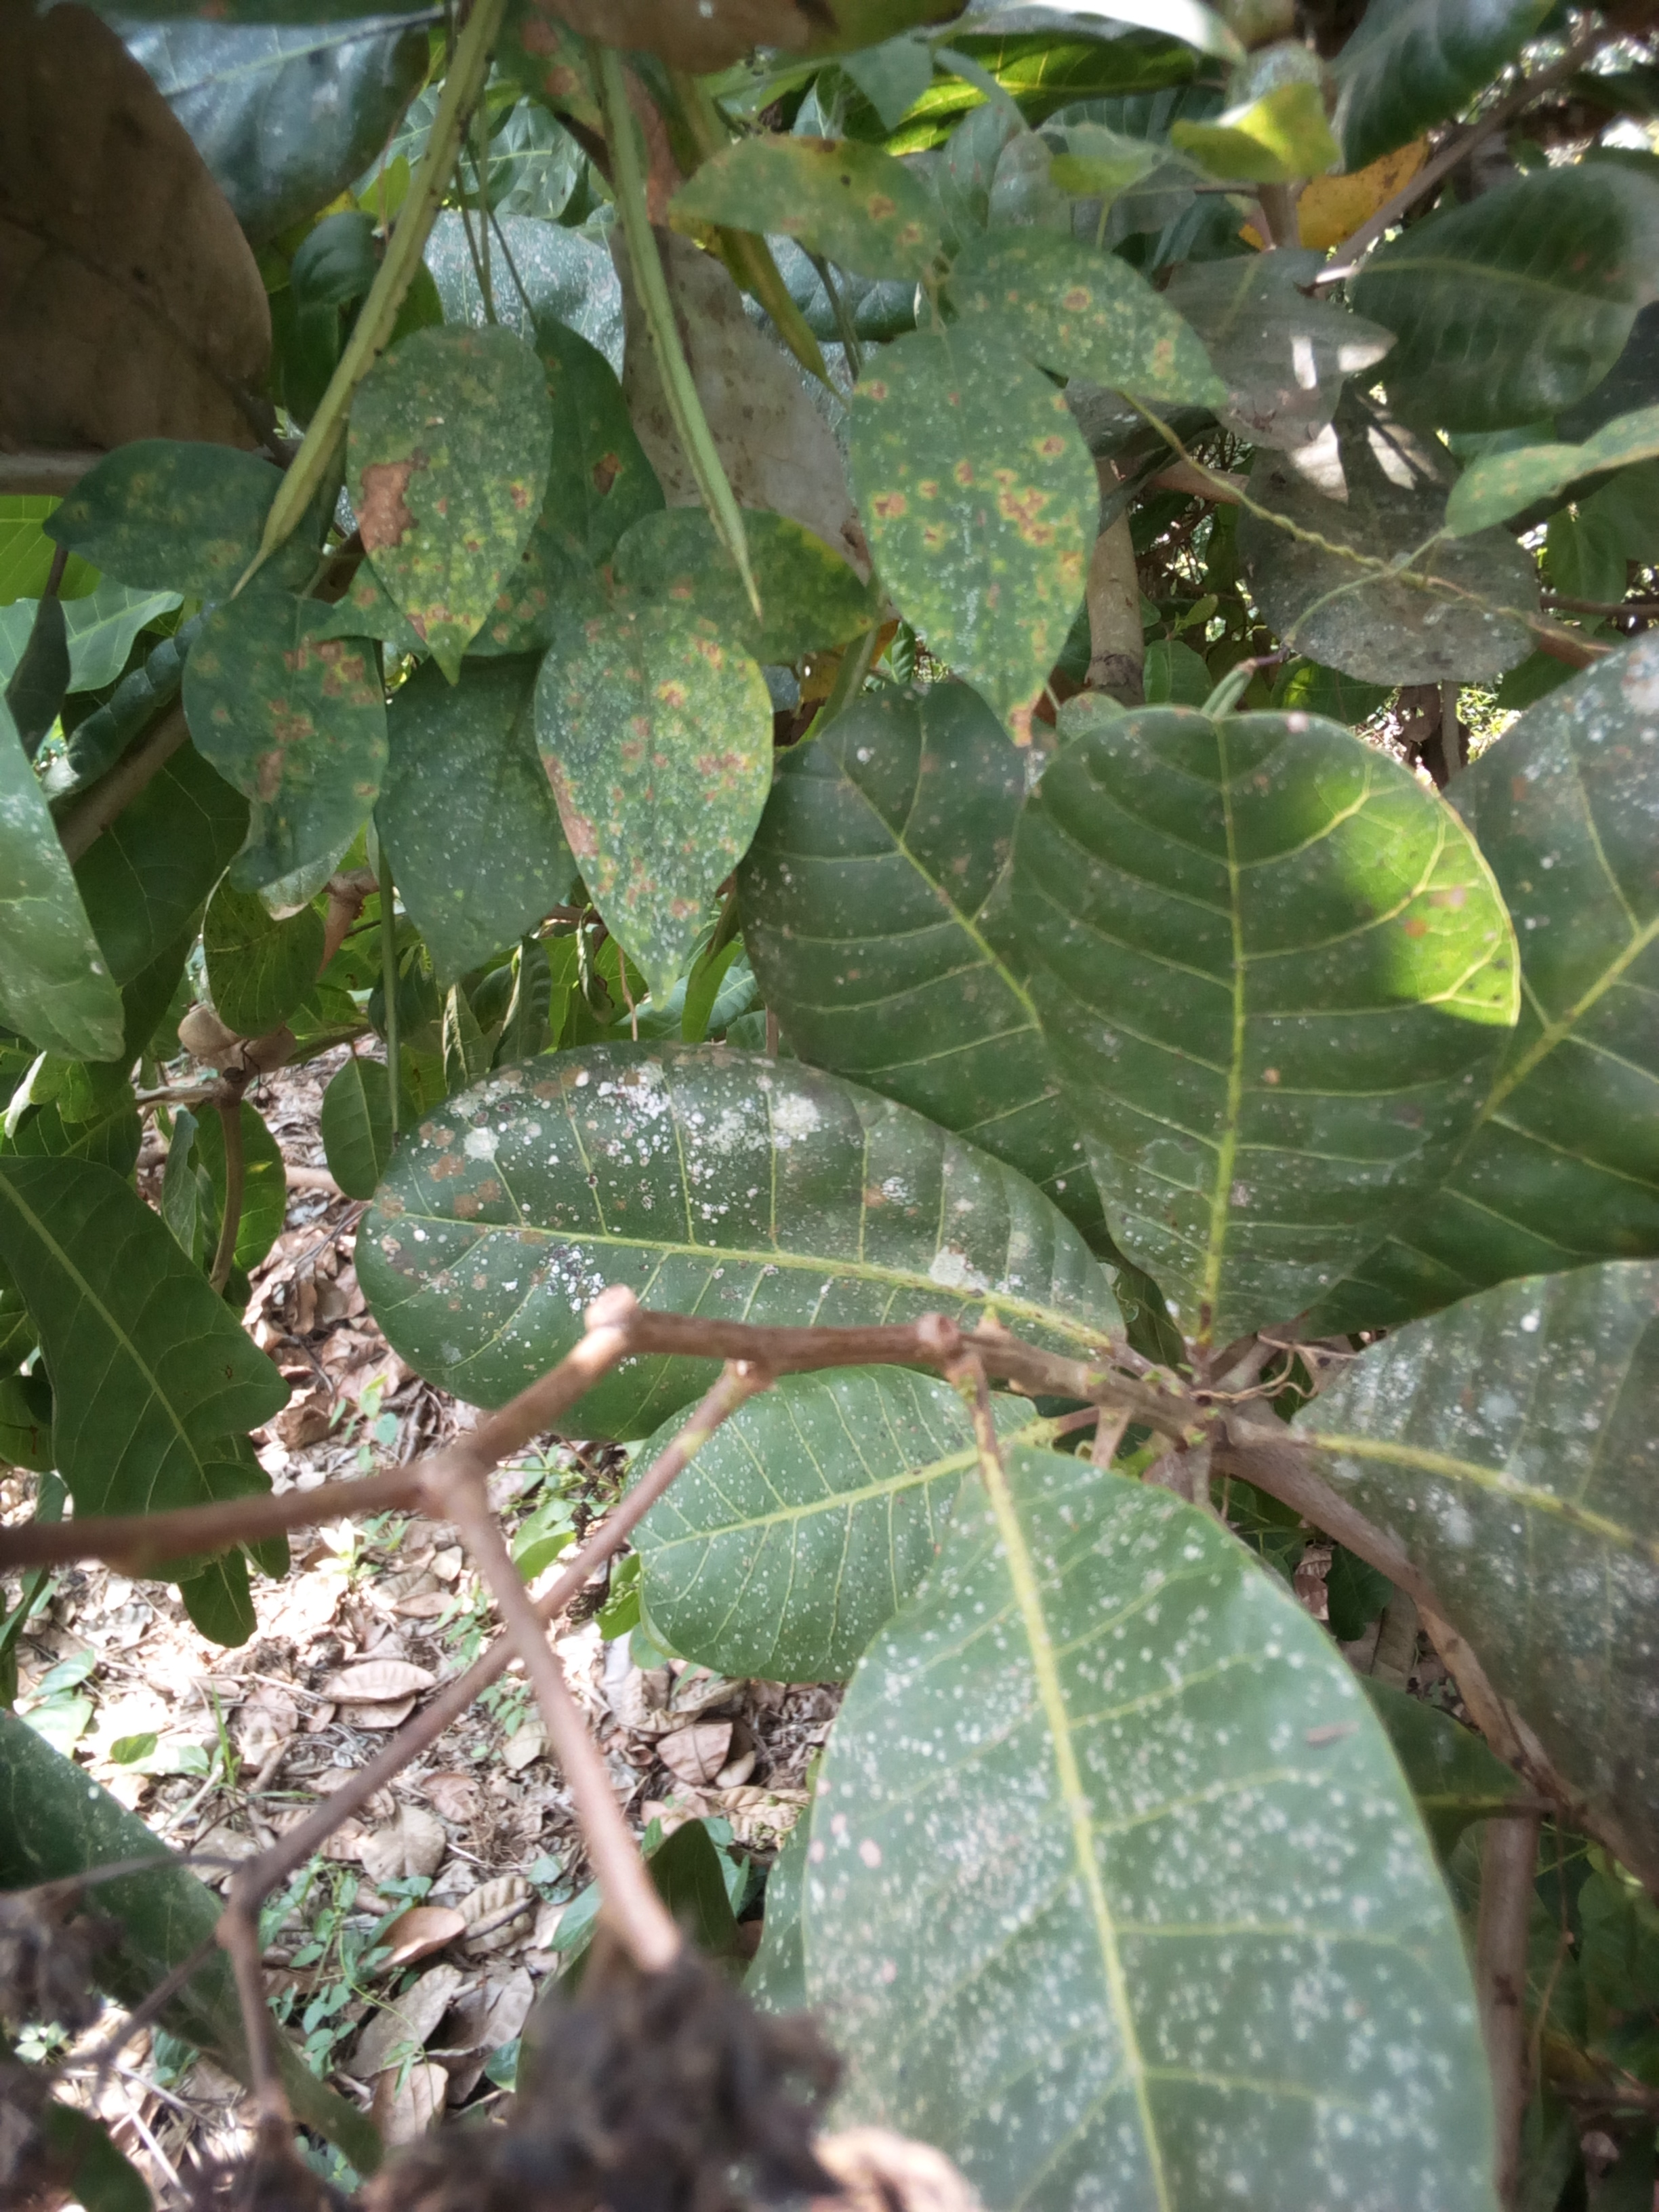Oidium: (775, 1364, 1521, 2212), (1019, 705, 1541, 1378), (342, 1028, 1145, 1458), (1473, 557, 1659, 1324)
